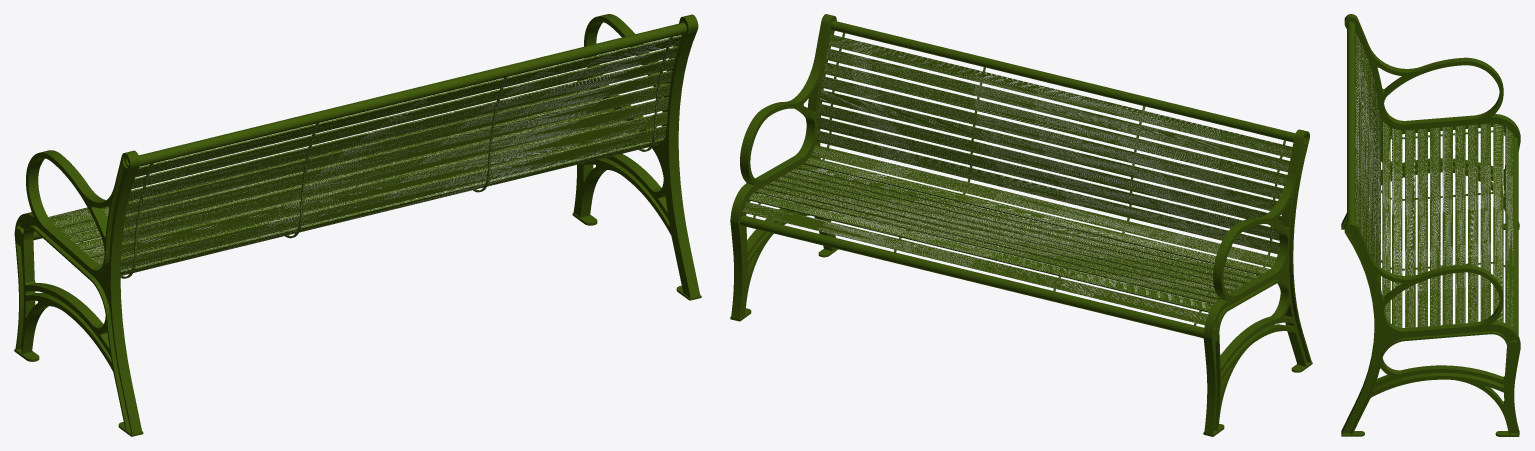
3 views of the same model, side by side, from view 1: azimuth 30°, elevation 25°; view 2: azimuth 150°, elevation 25°; view 3: azimuth 270°, elevation 25° (orthographic). The views are drawn at different scales.
Visible parts, largest first — view 1: mesh59_mesh59-geometry, mesh75_mesh75-geometry, mesh20_mesh20-geometry, mesh13_mesh13-geometry, mesh19_mesh19-geometry, mesh43_mesh43-geometry, mesh11_mesh11-geometry, mesh10_mesh10-geometry, mesh5_mesh5-geometry, mesh2_mesh2-geometry, mesh3_mesh3-geometry, mesh15_mesh15-geometry (+5 smaller); view 2: mesh59_mesh59-geometry, mesh75_mesh75-geometry, mesh2_mesh2-geometry, mesh5_mesh5-geometry, mesh3_mesh3-geometry, mesh10_mesh10-geometry, mesh16_mesh16-geometry, mesh11_mesh11-geometry, mesh19_mesh19-geometry, mesh15_mesh15-geometry, mesh13_mesh13-geometry, mesh20_mesh20-geometry (+11 smaller); view 3: mesh75_mesh75-geometry, mesh59_mesh59-geometry, mesh8_mesh8-geometry, mesh18_mesh18-geometry, mesh4_mesh4-geometry, mesh17_mesh17-geometry, mesh6_mesh6-geometry, mesh9_mesh9-geometry, mesh7_mesh7-geometry, mesh14_mesh14-geometry, mesh12_mesh12-geometry, mesh43_mesh43-geometry (+11 smaller).
Part boxes in pixels (box(x1,y1,x2,y2)): mesh59_mesh59-geometry: box(14, 150, 142, 434); mesh75_mesh75-geometry: box(573, 14, 700, 298); mesh20_mesh20-geometry: box(121, 111, 667, 256); mesh13_mesh13-geometry: box(122, 97, 668, 242); mesh19_mesh19-geometry: box(120, 125, 666, 270); mesh43_mesh43-geometry: box(139, 20, 695, 166); mesh11_mesh11-geometry: box(123, 83, 670, 227); mesh10_mesh10-geometry: box(125, 70, 672, 214); mesh5_mesh5-geometry: box(128, 57, 675, 201); mesh2_mesh2-geometry: box(131, 46, 678, 188); mesh3_mesh3-geometry: box(135, 35, 682, 177); mesh15_mesh15-geometry: box(120, 138, 663, 275); mesh59_mesh59-geometry: box(1203, 129, 1311, 436); mesh75_mesh75-geometry: box(730, 14, 836, 321); mesh2_mesh2-geometry: box(825, 48, 1289, 172); mesh5_mesh5-geometry: box(823, 62, 1287, 185); mesh3_mesh3-geometry: box(828, 34, 1292, 158); mesh10_mesh10-geometry: box(821, 76, 1283, 198); mesh16_mesh16-geometry: box(743, 202, 1207, 325); mesh11_mesh11-geometry: box(820, 90, 1277, 210); mesh19_mesh19-geometry: box(816, 130, 1279, 254); mesh15_mesh15-geometry: box(811, 145, 1276, 267); mesh13_mesh13-geometry: box(818, 103, 1281, 223); mesh20_mesh20-geometry: box(818, 117, 1279, 240); mesh75_mesh75-geometry: box(1341, 221, 1520, 434); mesh59_mesh59-geometry: box(1341, 14, 1520, 227); mesh8_mesh8-geometry: box(1455, 125, 1465, 323); mesh18_mesh18-geometry: box(1442, 126, 1452, 324); mesh4_mesh4-geometry: box(1468, 124, 1478, 322); mesh17_mesh17-geometry: box(1430, 127, 1440, 325); mesh6_mesh6-geometry: box(1417, 128, 1427, 326); mesh9_mesh9-geometry: box(1480, 123, 1490, 320); mesh7_mesh7-geometry: box(1405, 129, 1415, 327); mesh14_mesh14-geometry: box(1392, 128, 1402, 327); mesh12_mesh12-geometry: box(1493, 123, 1503, 322); mesh43_mesh43-geometry: box(1346, 21, 1356, 237).
Size of the model in its own units: 0.8616 by 0.4027 by 0.3091.
